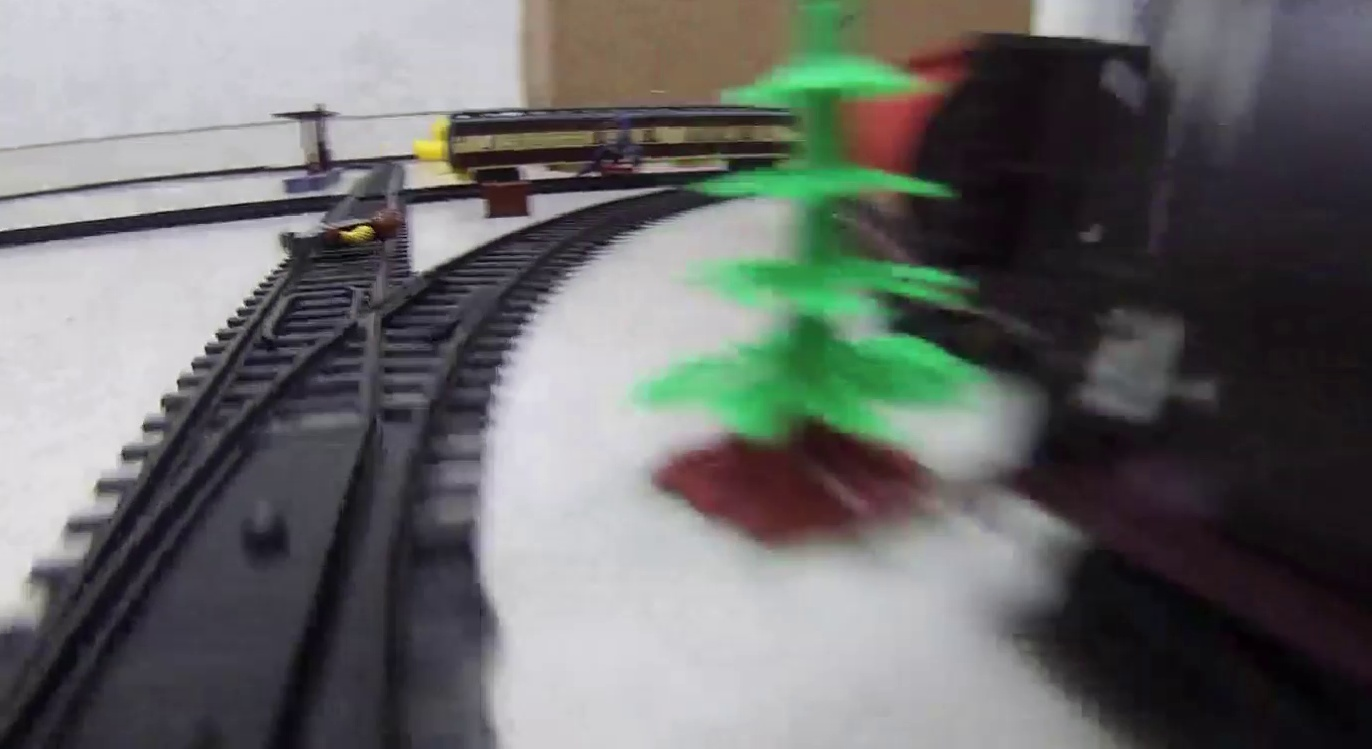tree: (640, 1, 984, 532)
